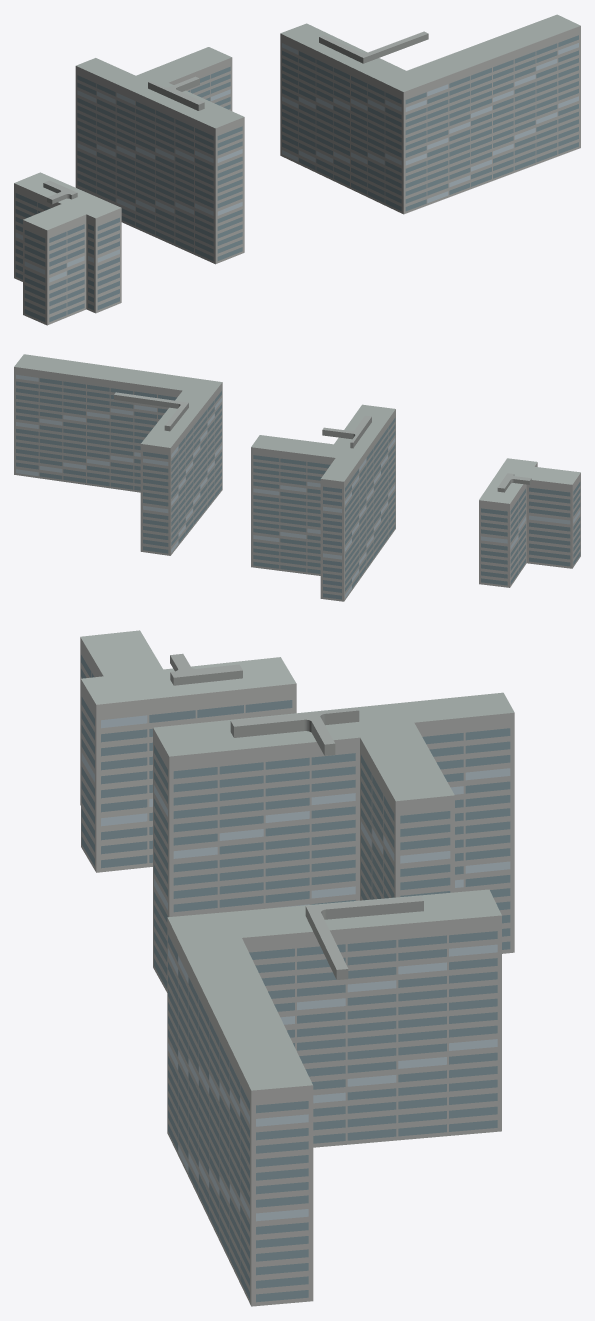
File: apt-a13384304.glb
3 views of the same model, one above another, from view 1: azimuth 30°, elevation 25°; view 2: azimuth 150°, elevation 25°; view 3: azimuth 270°, elevation 25° (orthographic). The views are drawn at different scales.
Visible parts, largest first — view 1: apt-a13384304; view 2: apt-a13384304; view 3: apt-a13384304.
Boxes of the visible parts, x1,y1,x2,y2 form: apt-a13384304: [14, 14, 580, 325]; apt-a13384304: [14, 354, 580, 601]; apt-a13384304: [80, 630, 514, 1306].
Size of the model in its own units: 217 by 50 by 78.37.
